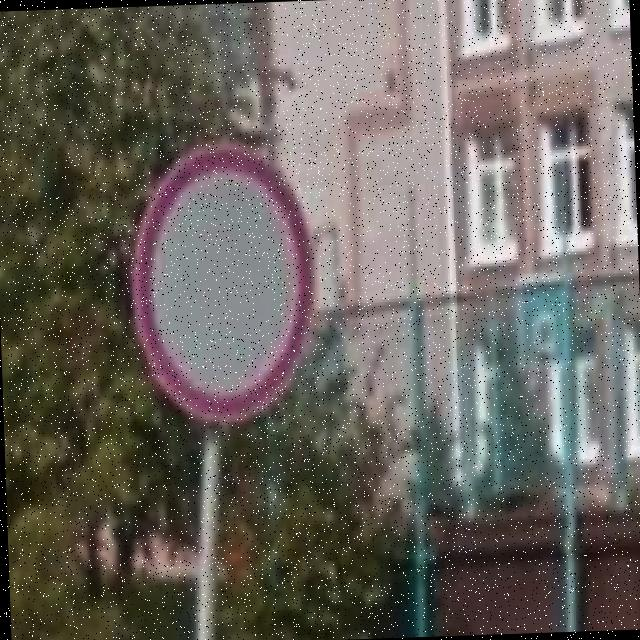Zakaz ruchu w obu kierunkach: (126, 138, 318, 424)
